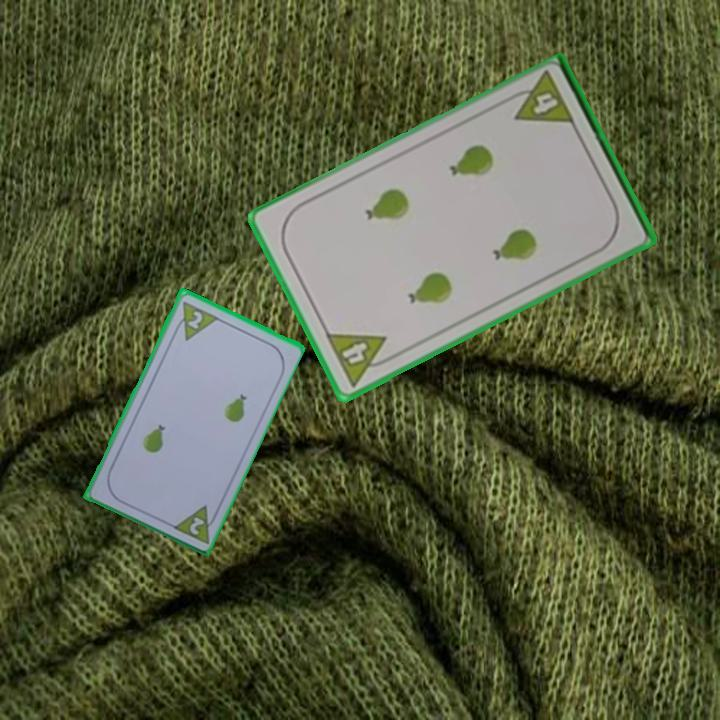2p: (168, 501, 222, 546), (169, 297, 220, 343)
4p: (322, 329, 399, 390), (503, 69, 578, 129)
